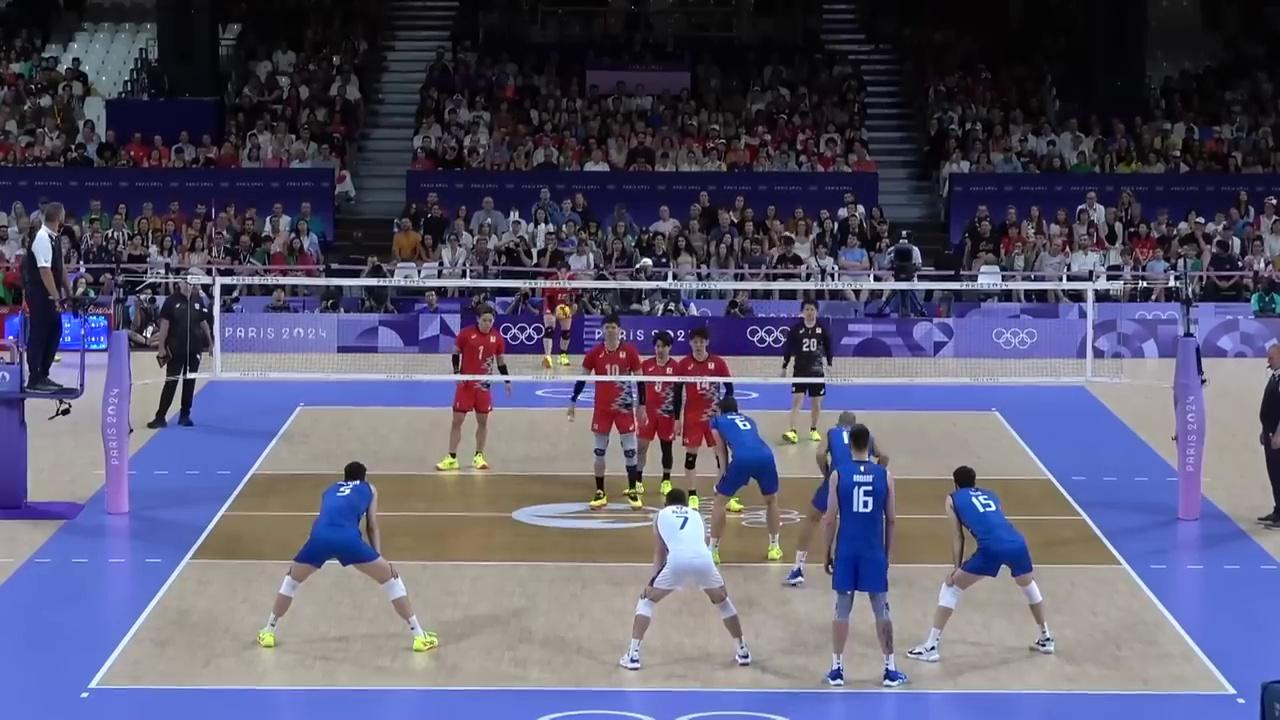ball: (554, 303, 571, 322)
